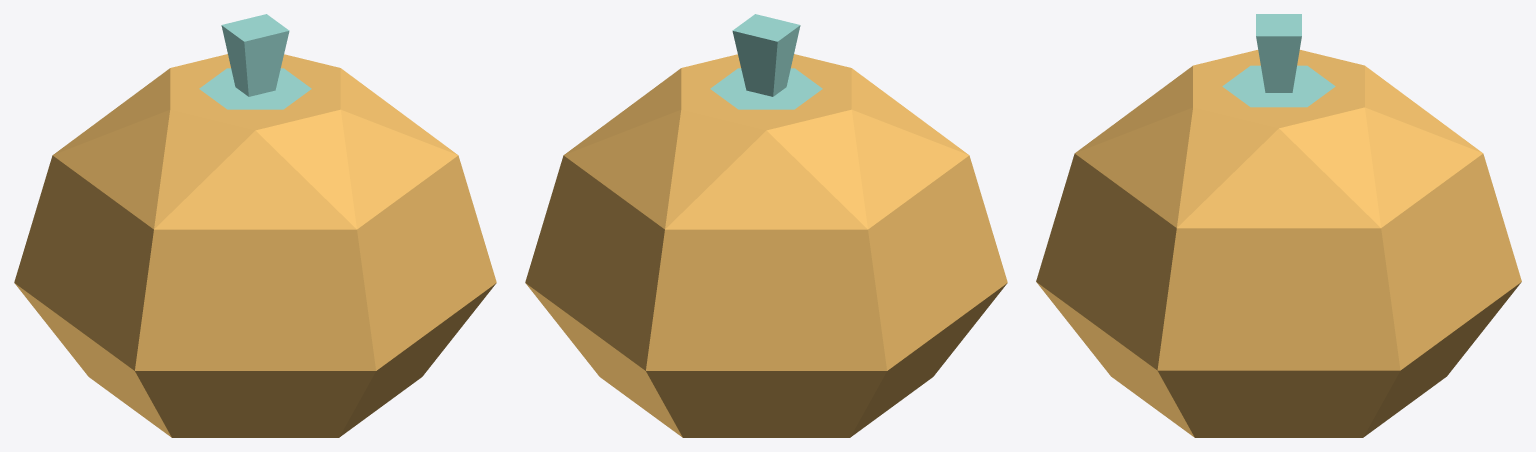
The model's file is pumpkin.glb.
3 renders of one model, left to right at view 1: azimuth 30°, elevation 25°; view 2: azimuth 150°, elevation 25°; view 3: azimuth 270°, elevation 25°, orthographic.
Visible parts, largest first — view 1: pumpkin; view 2: pumpkin; view 3: pumpkin.
Part boxes in pixels (box(x1,y1,x2,y2)): pumpkin: box(14, 14, 496, 437); pumpkin: box(525, 14, 1007, 437); pumpkin: box(1036, 14, 1521, 437).
Bounding box in the file's own units: 0.2941 × 0.2709 × 0.3396.
